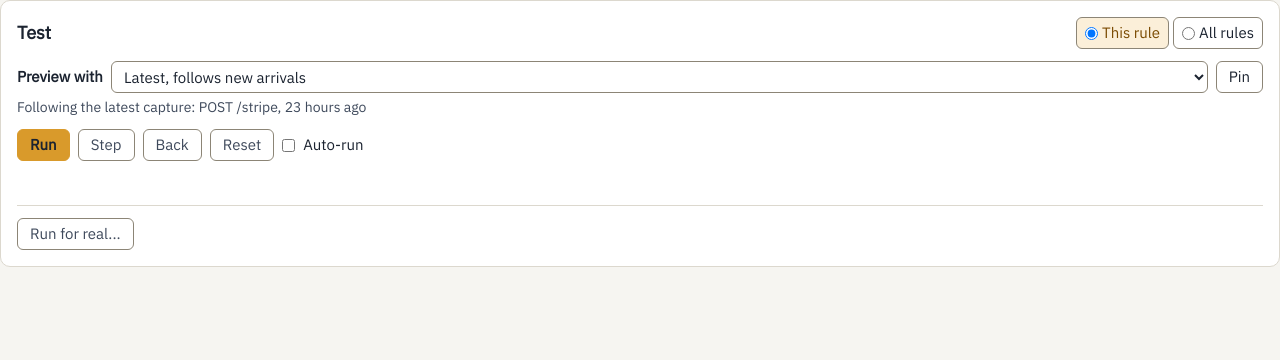
Test: RuleTester › shows server field errors of a refused run
Click the button "Run": (43, 145) [17, 129, 70, 161]
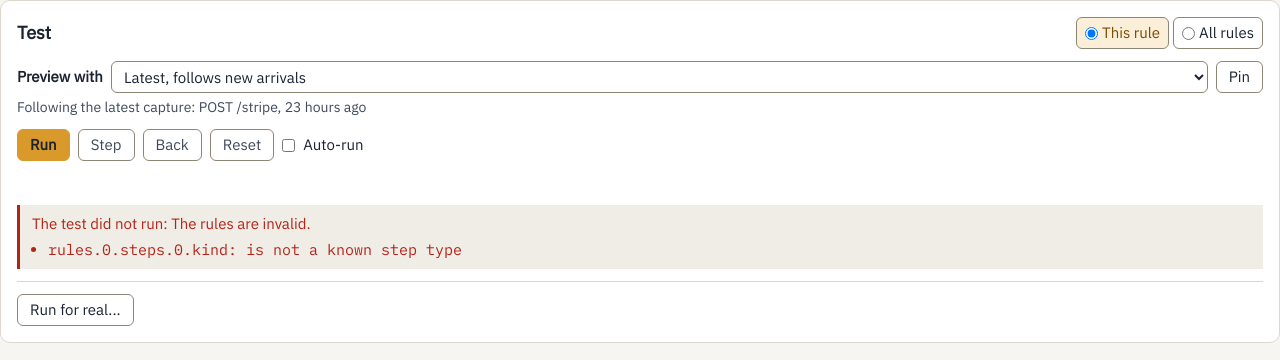
Expected: the 2nd message shows "The rules are invalid.", [32, 214, 310, 233]
Expected: the 2nd message shows "rules.0.steps.0.kind: is not a known step type", [48, 240, 462, 259]
